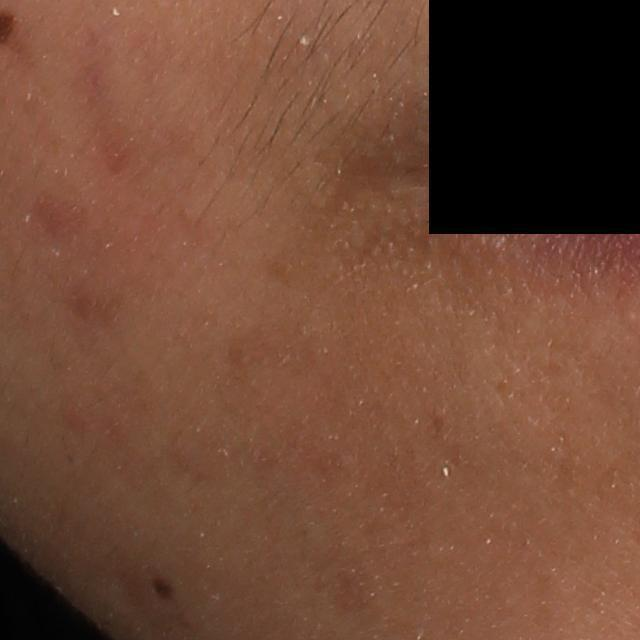nevus: (150, 581, 174, 600)
